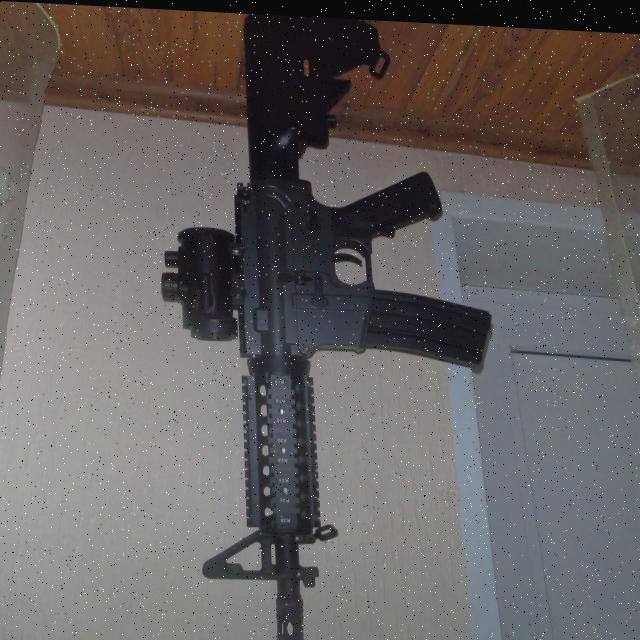firearm: (158, 6, 492, 640)
